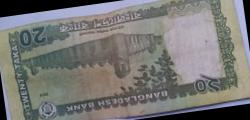20 taka: (10, 1, 234, 120)
